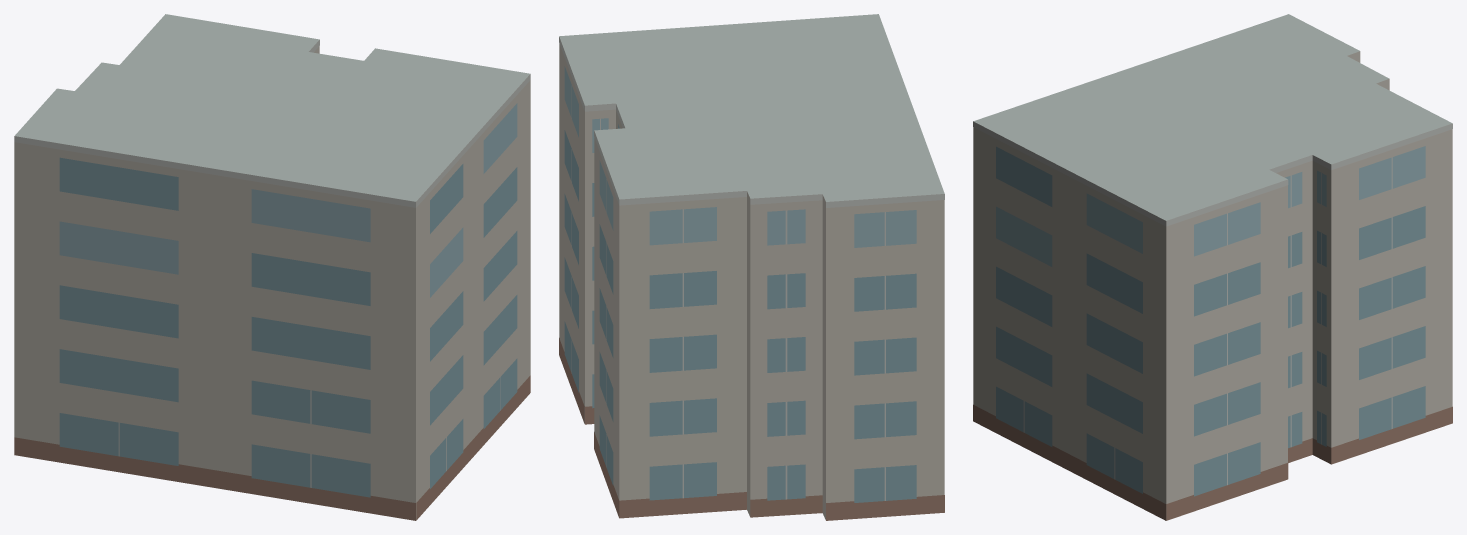
File: survey-upis-33005452.glb
3 renders of one model, left to right at view 1: azimuth 30°, elevation 25°; view 2: azimuth 150°, elevation 25°; view 3: azimuth 270°, elevation 25°, orthographic. The views are drawn at different scales.
Parts seen in each view (by area): view 1: survey-upis-33005452.tmp; view 2: survey-upis-33005452.tmp; view 3: survey-upis-33005452.tmp.
Boxes of the visible parts, x1=… form: survey-upis-33005452.tmp: x1=14, y1=14, x2=530, y2=520; survey-upis-33005452.tmp: x1=559, y1=14, x2=944, y2=520; survey-upis-33005452.tmp: x1=973, y1=14, x2=1452, y2=520.
Size of the model in its own units: 18.95 by 12.8 by 18.56.
